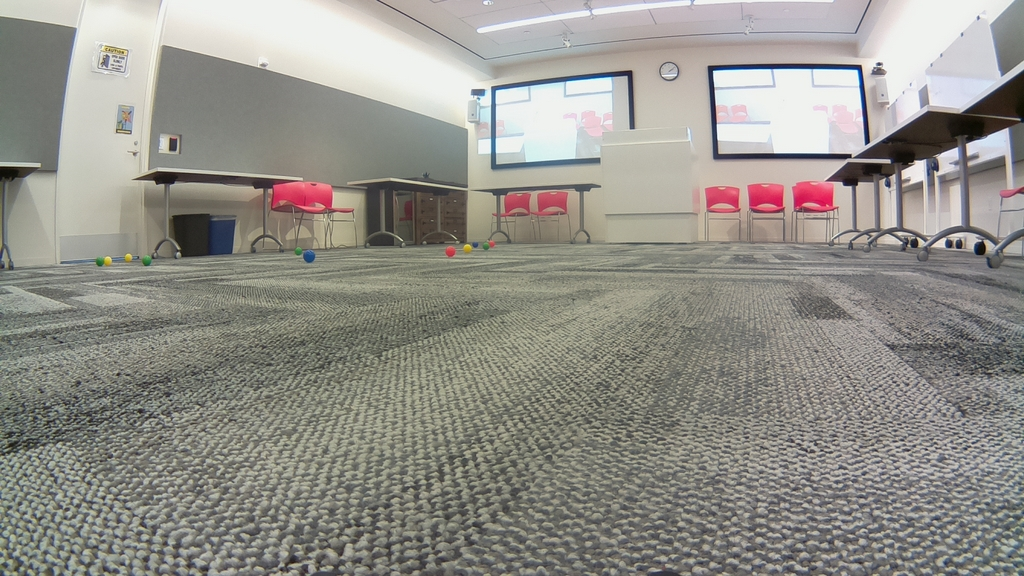ball: (140, 254, 152, 268)
